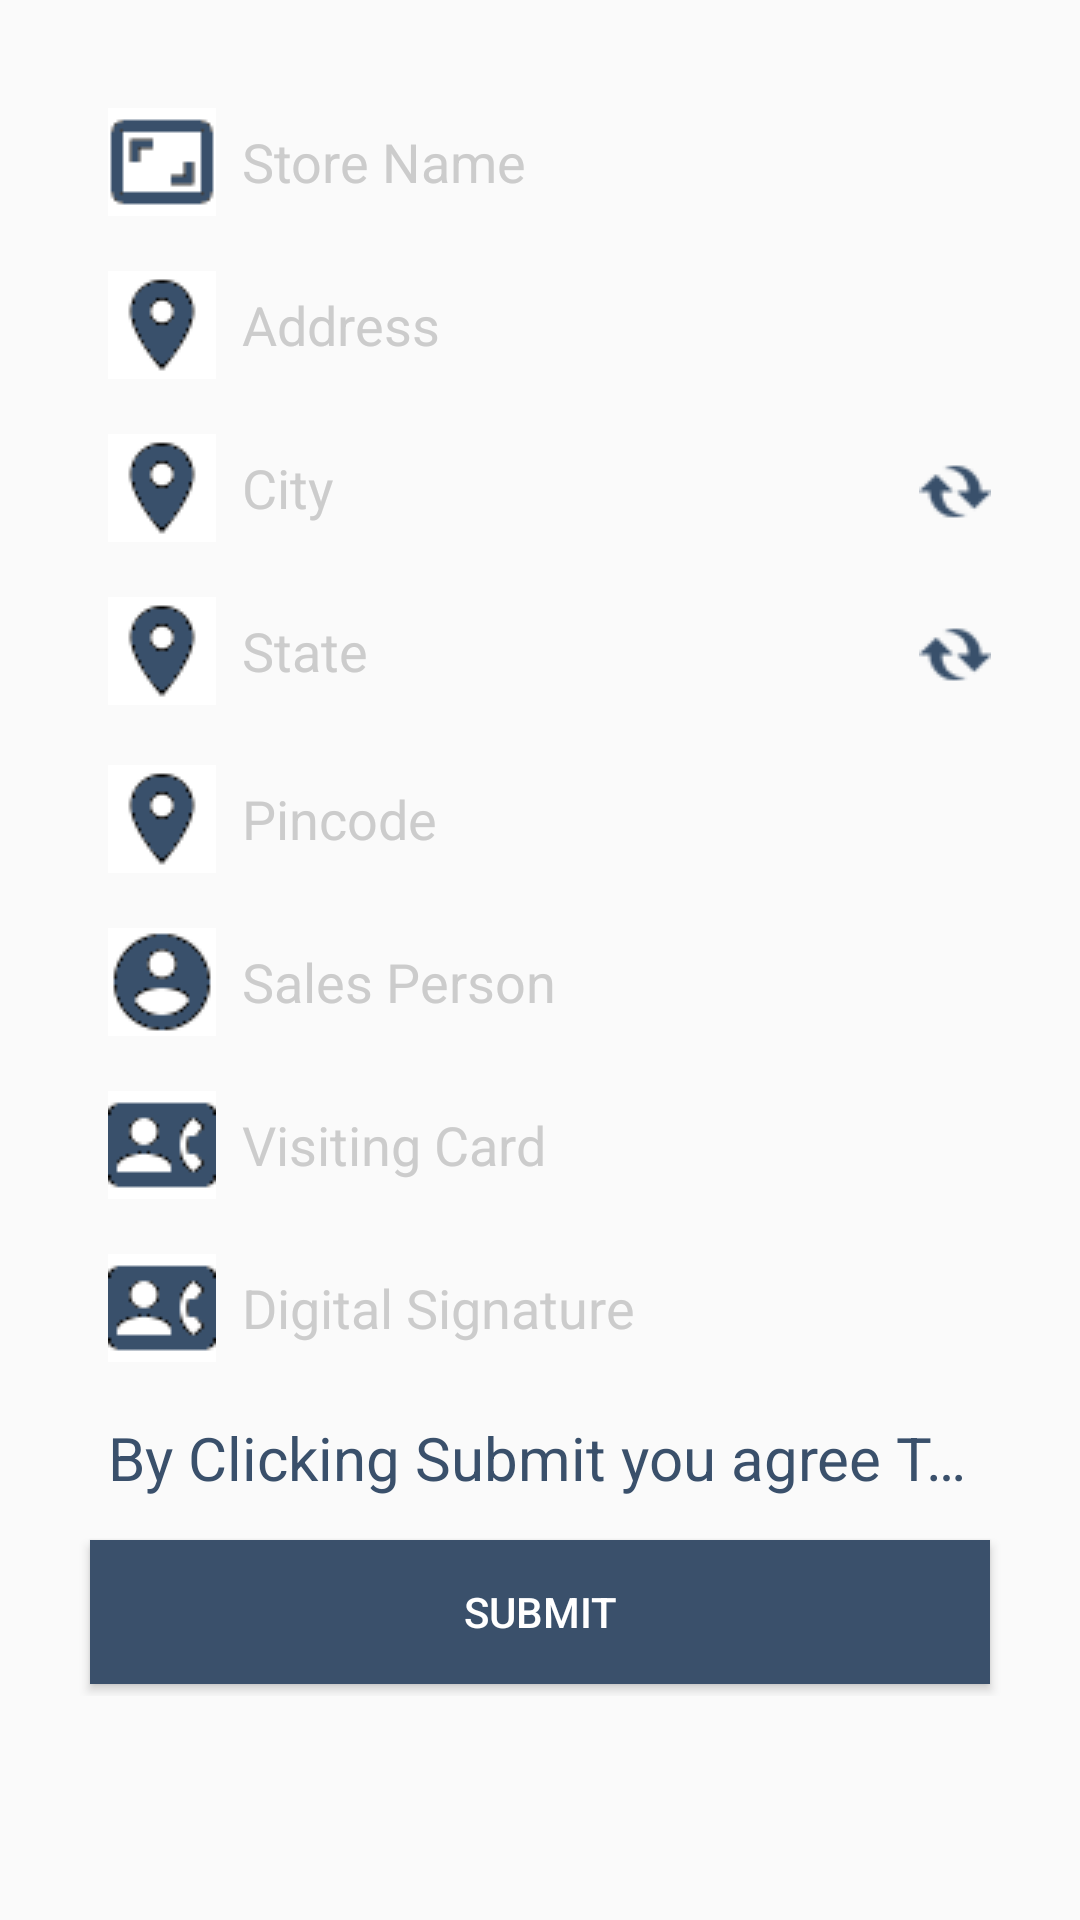

Screen size 1080px x 1920px. Icon name, then its box in pixels as detection(x1, y1, x2, y2):
refresh: detection(919, 465, 991, 518), detection(919, 628, 991, 681)
